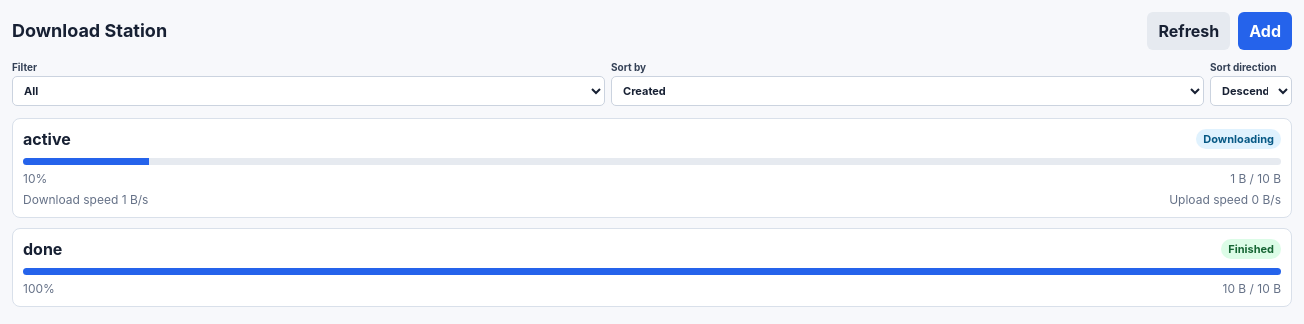
Test: TaskList › filters tasks by downloading and finished status
Select "Downloading" in the dropdown labelled "Filter" at (308, 91), box x1=12 y1=76 x2=605 y2=106
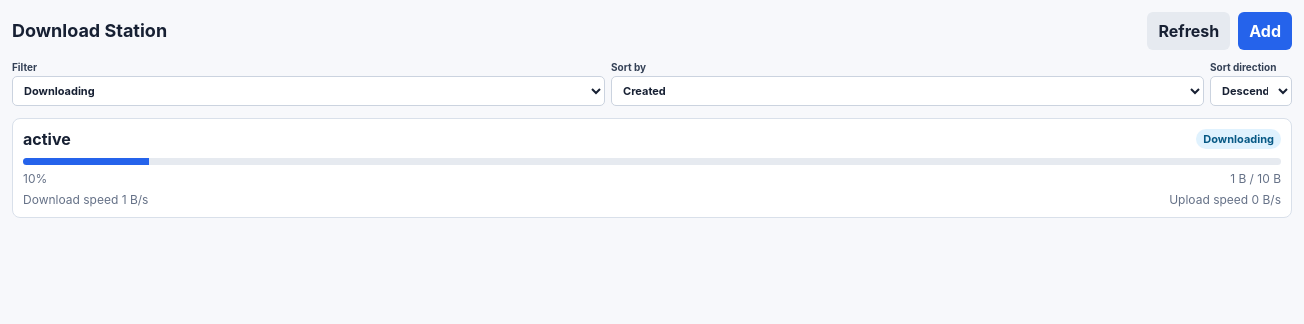
Check: the text "active" is shown, box x1=23 y1=129 x2=71 y2=149
Check: the text "done" is gone
Select "Finished" in the dropdown labelled "Filter" at (308, 91), box x1=12 y1=76 x2=605 y2=106
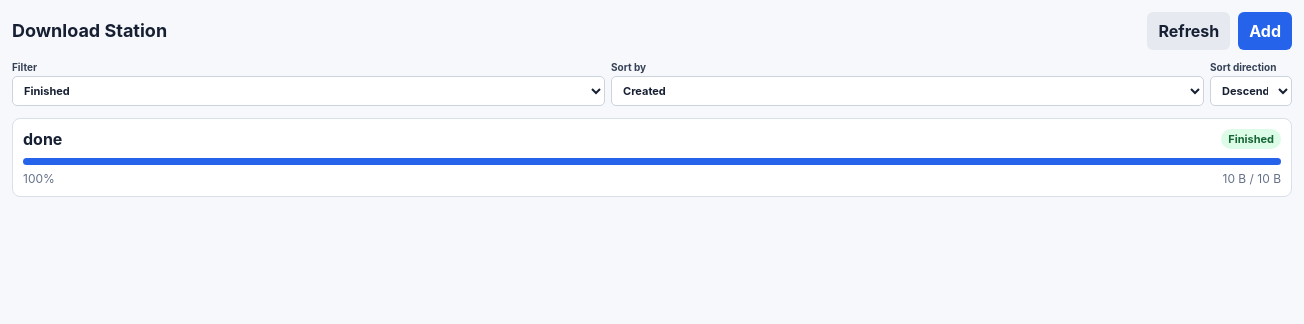
Check: the text "active" is gone
Check: the text "done" is shown, box x1=23 y1=129 x2=62 y2=149
